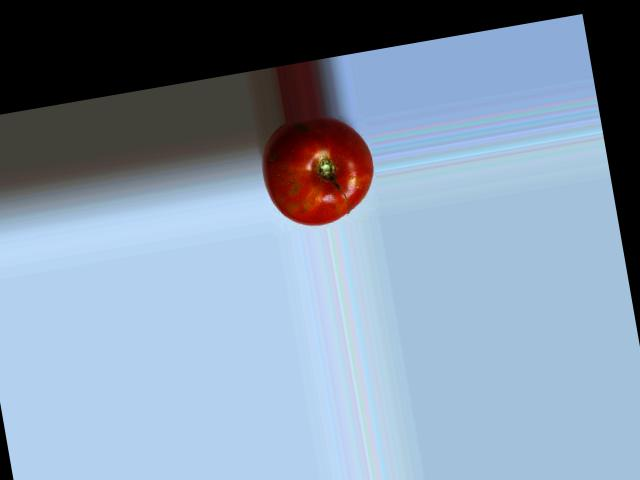tomato: (255, 109, 381, 232)
